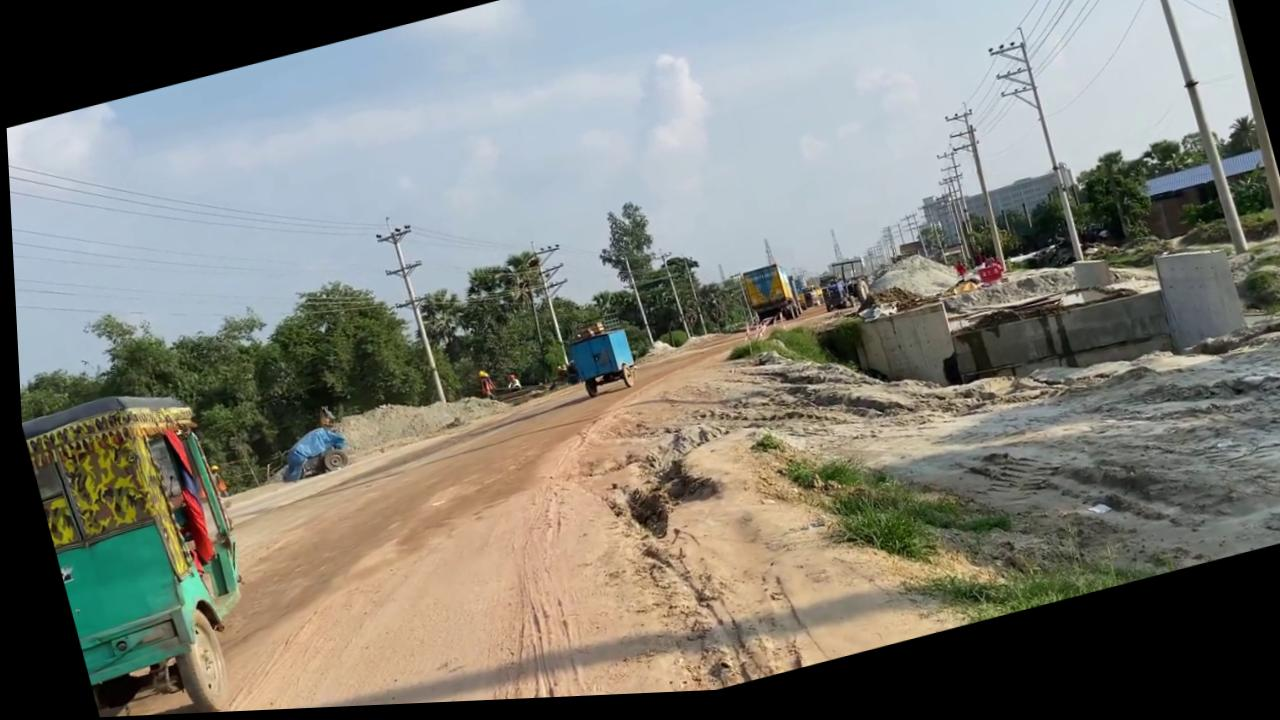Obstacle: (506, 341, 598, 429)
Pole: (1198, 0, 1280, 300)
Traffic-sign: (267, 267, 436, 437), (592, 202, 685, 360)
Tree: (15, 354, 279, 720), (481, 248, 601, 431), (466, 324, 626, 439), (262, 400, 364, 487), (739, 268, 803, 338), (816, 263, 876, 322), (970, 255, 1010, 297), (819, 282, 853, 321), (792, 280, 825, 320), (580, 354, 619, 387)
Upstairs: (813, 233, 1241, 440)
